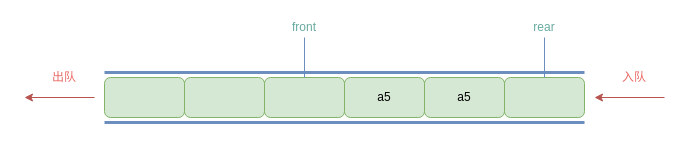
This 690x142 diagram has some shape labels left out. The box of each missing label's shape, as (x1, y1, x2, y2) in pixels:
a3: (264, 76, 344, 118)
a6: (504, 76, 584, 118)
